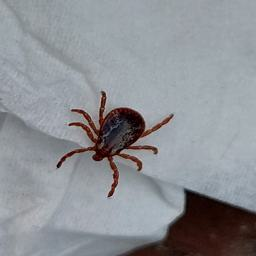Dermacentor variabilis: (55, 92, 174, 196)
